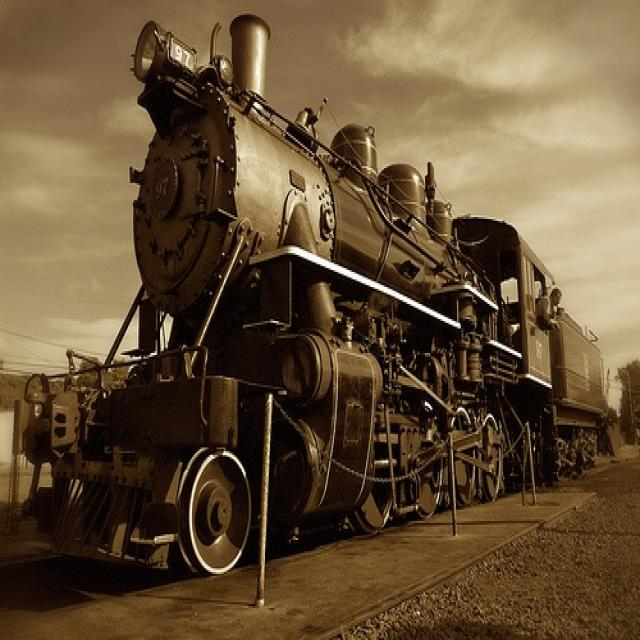train: (19, 13, 607, 604)
